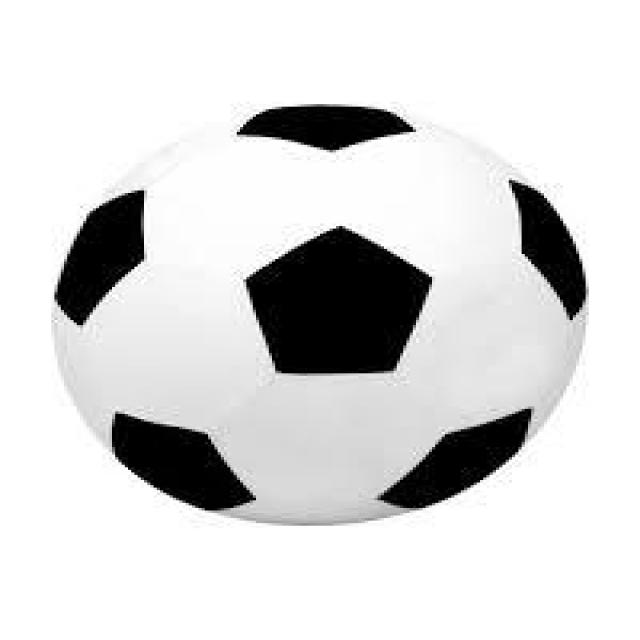Soccer Ball: (54, 99, 592, 523)
